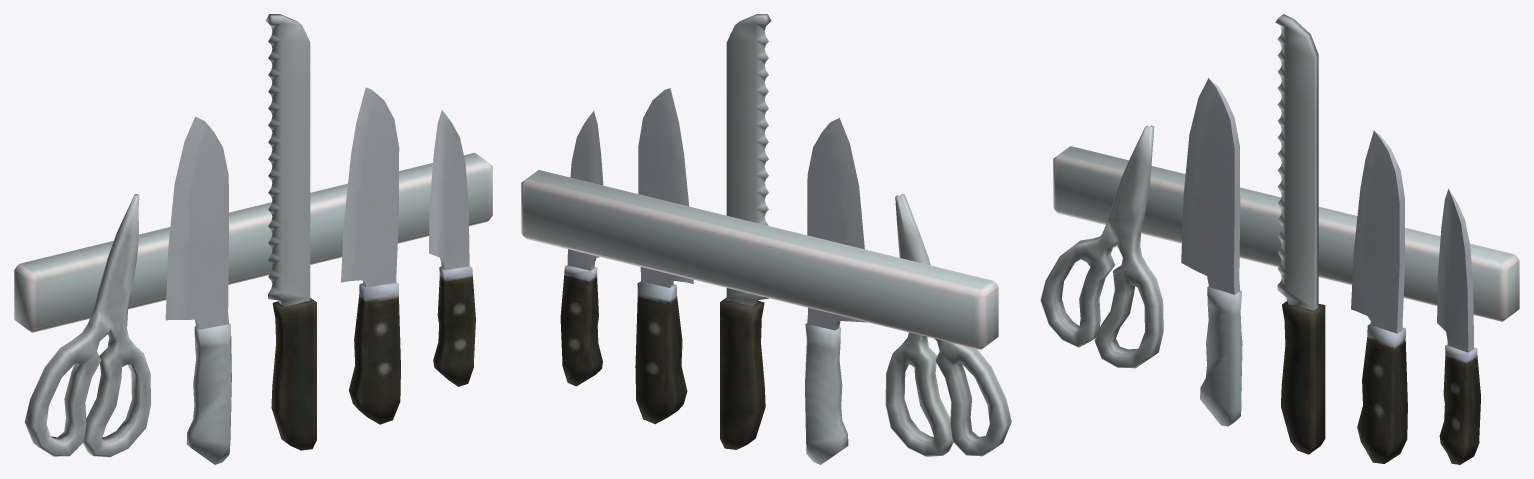
3 views of the same model, side by side, from view 1: azimuth 30°, elevation 25°; view 2: azimuth 150°, elevation 25°; view 3: azimuth 330°, elevation 25° (orthographic). The views are drawn at different scales.
Bounding box in the file's own units: 8.35 × 7.42 × 0.8837.
Materials: 1 (1 with a texture image).
